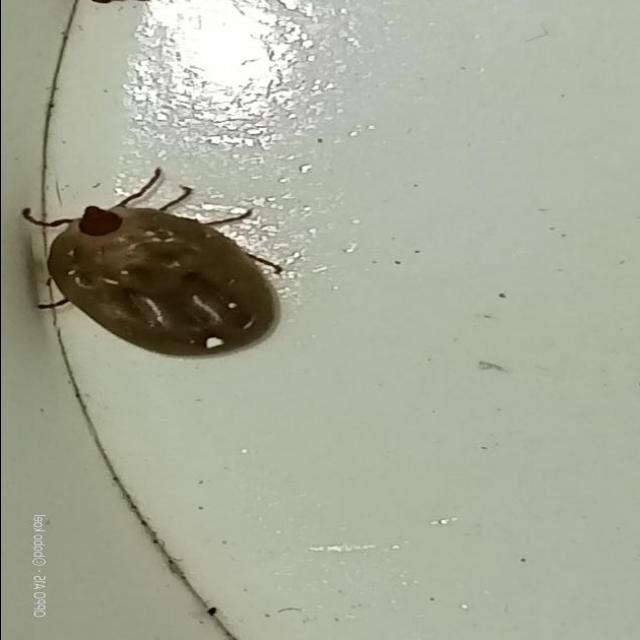Rhipicephalus Sanguineus-F-Fed: (20, 167, 281, 359)
